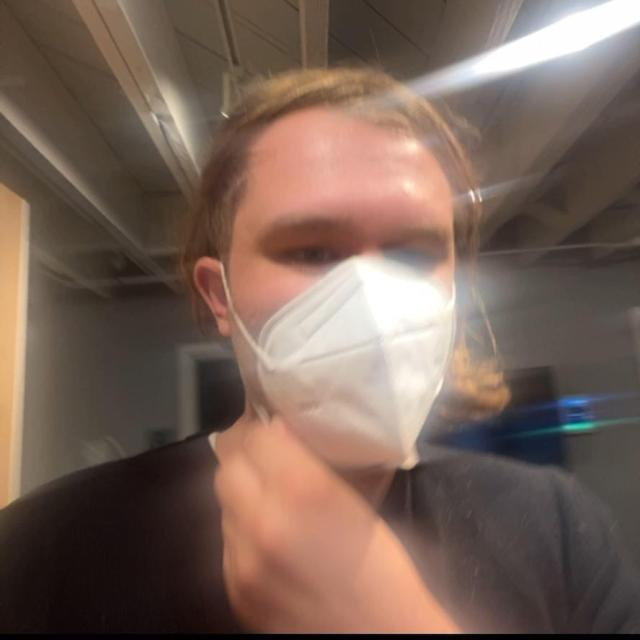no-helmet: (152, 46, 524, 455)
